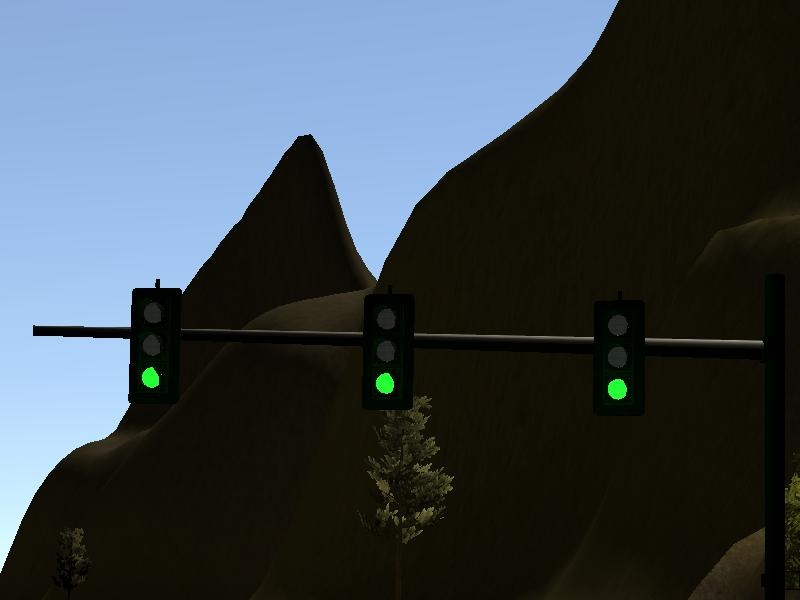green: (125, 280, 193, 416), (356, 284, 419, 415), (591, 294, 647, 418)
